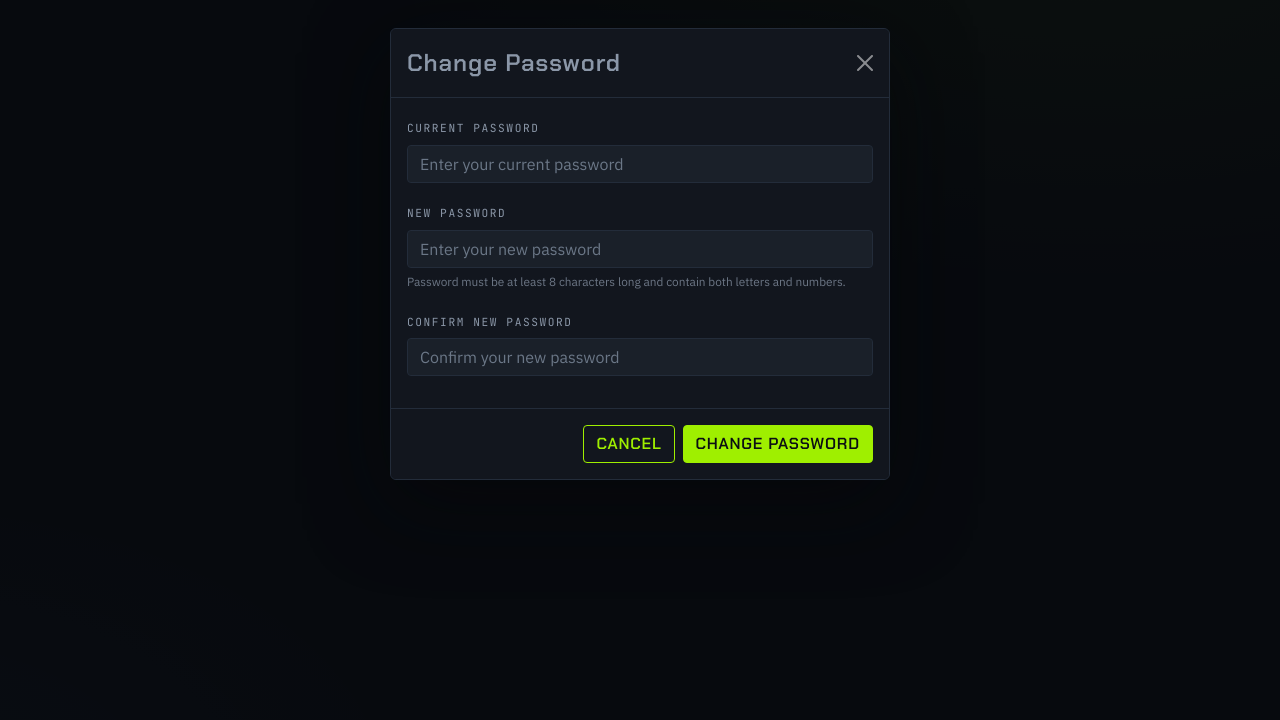
it: PasswordChangeModal › renders structured password failures through the shared error boundary
In the password field labelled "Current Password": coordinates (640, 164) [407,145,873,183], type "old-secret"
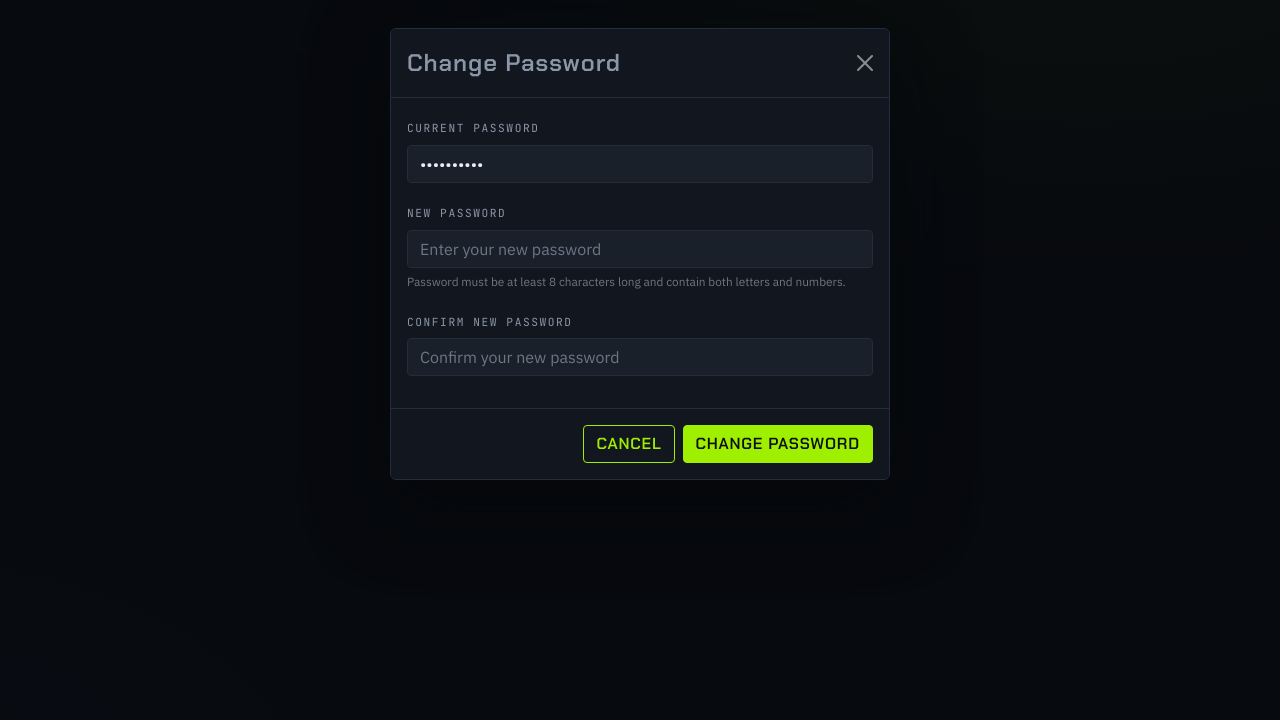
In the password field labelled "New Password": coordinates (640, 249) [407,230,873,268], type "newpass1"
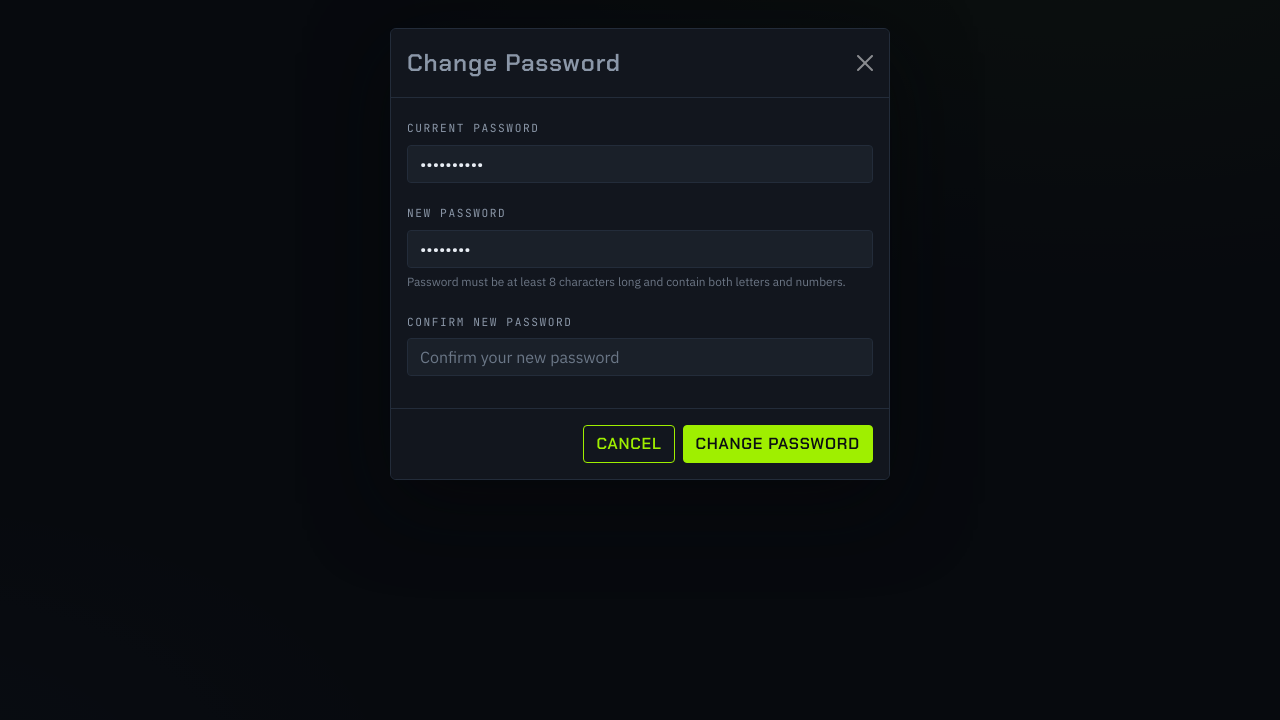
In the password field labelled "Confirm New Password": coordinates (640, 357) [407,338,873,376], type "newpass1"
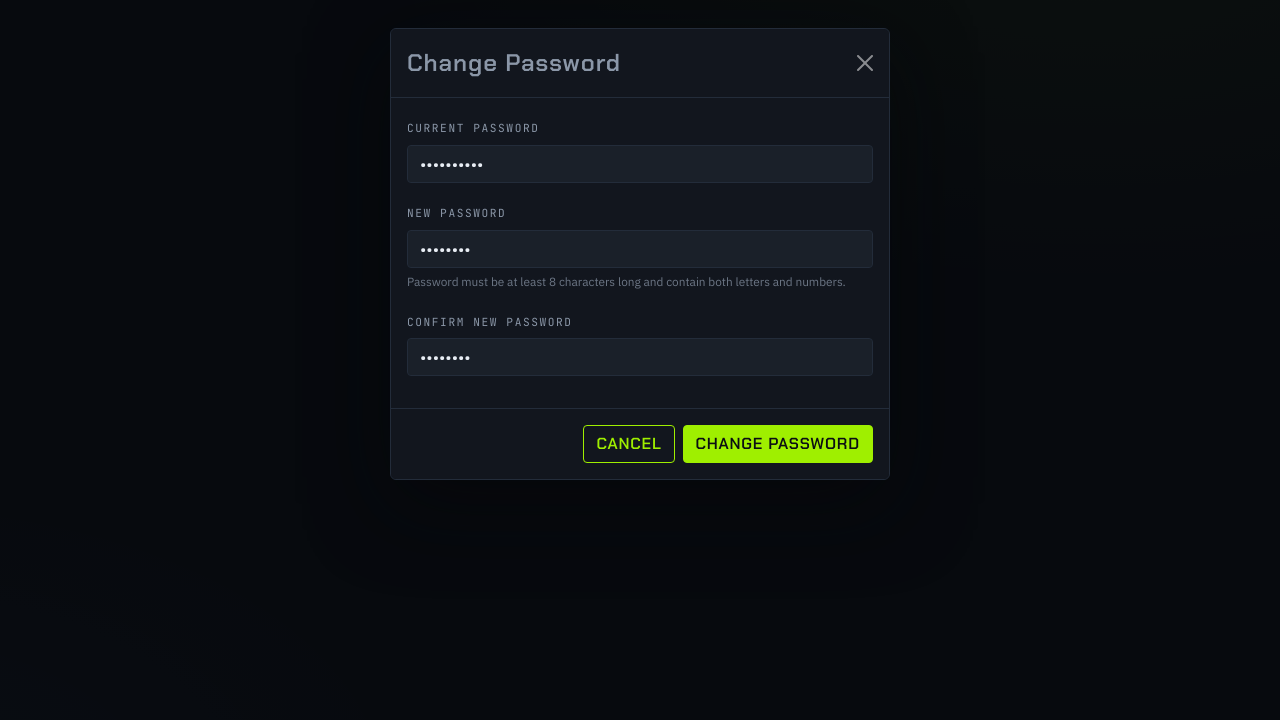
Click the button "Change Password": coordinates (778, 444) [682,425,873,463]
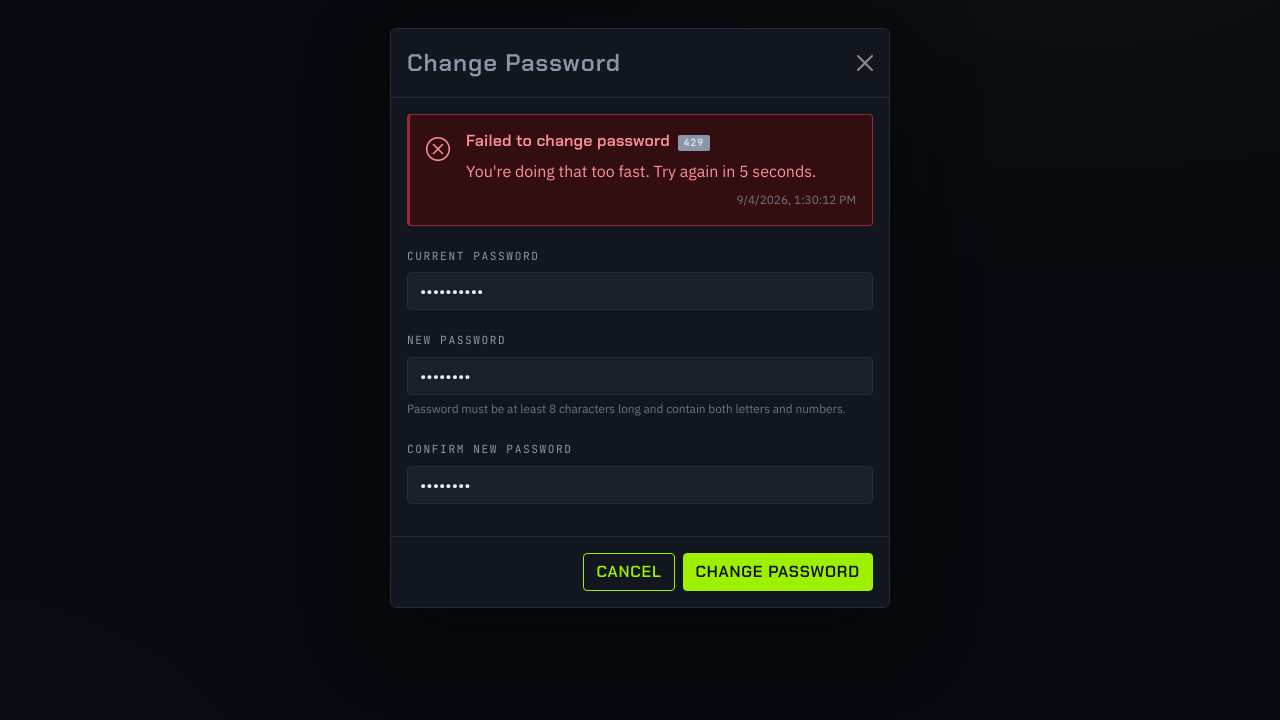
Expected: the text "You're doing that too fast. Try again in 5 seconds." is shown, [466,159,856,183]
Expected: the text "429" is shown, [678,135,710,151]
